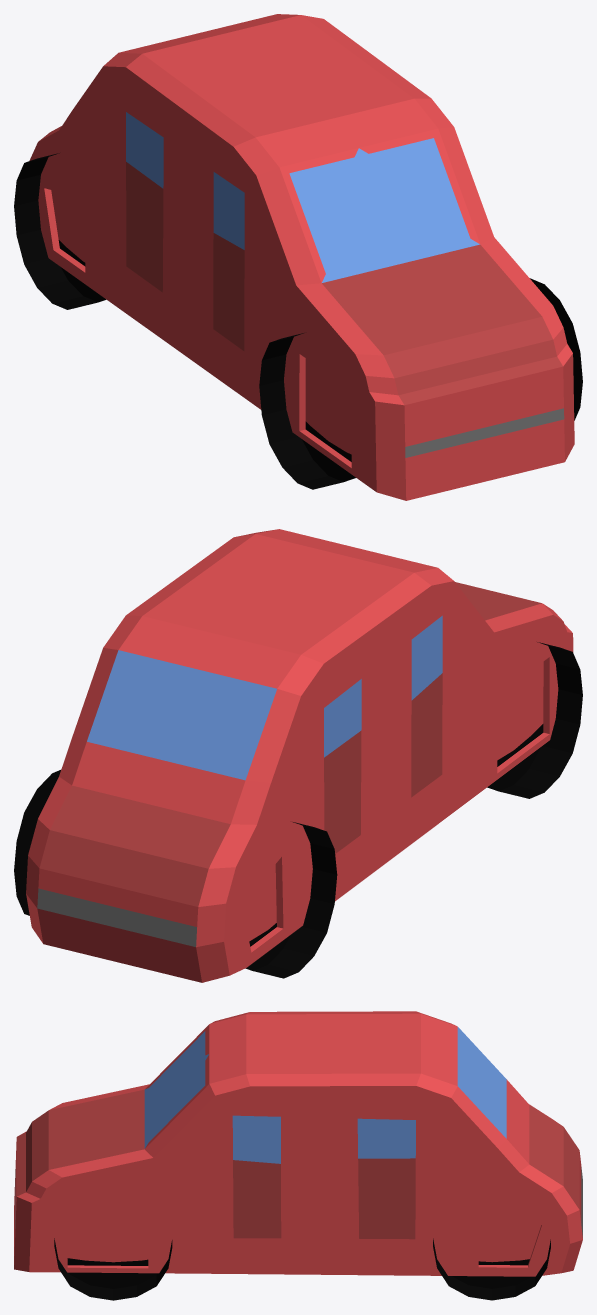
File: car.fbx
3 renders of one model, top to bottom at view 1: azimuth 30°, elevation 25°; view 2: azimuth 150°, elevation 25°; view 3: azimuth 270°, elevation 25°, orthographic. The views are drawn at different scales.
Visible parts, largest first — view 1: Plane; view 2: Plane; view 3: Plane.
Boxes of the visible parts, <box> form: Plane: <box>14,14,582,500</box>; Plane: <box>14,529,582,982</box>; Plane: <box>14,1011,582,1300</box>.
Size of the model in its own units: 1336 by 1410 by 3454.
